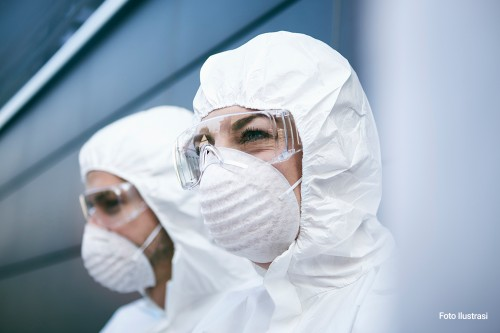Goggles: (173, 108, 300, 190), (75, 180, 148, 230)
with_mask: (188, 120, 301, 266), (79, 196, 157, 296)
